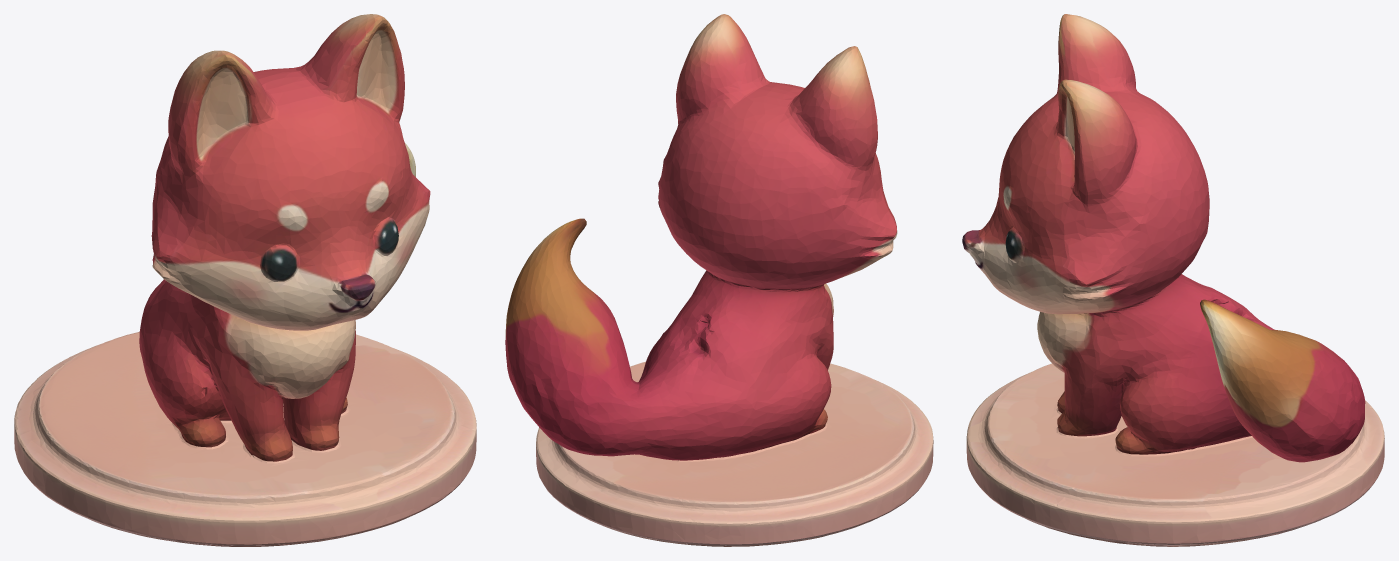
The model's file is fig-07.glb.
3 renders of one model, left to right at view 1: azimuth 30°, elevation 25°; view 2: azimuth 150°, elevation 25°; view 3: azimuth 270°, elevation 25°, orthographic. The views are drawn at different scales.
Visible parts, largest first — view 1: tmpmg__7o68.ply; view 2: tmpmg__7o68.ply; view 3: tmpmg__7o68.ply.
Part boxes in pixels (left/top/right/bottom): tmpmg__7o68.ply: left=14, top=14, right=476, bottom=546; tmpmg__7o68.ply: left=505, top=14, right=933, bottom=546; tmpmg__7o68.ply: left=962, top=14, right=1384, bottom=546.
Bounding box in the file's own units: 1.83 × 1.99 × 1.84.
1 material, 1 textured.
